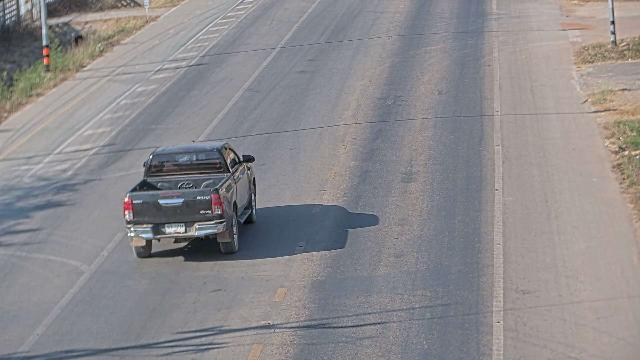pickup-truck: (122, 140, 257, 258)
